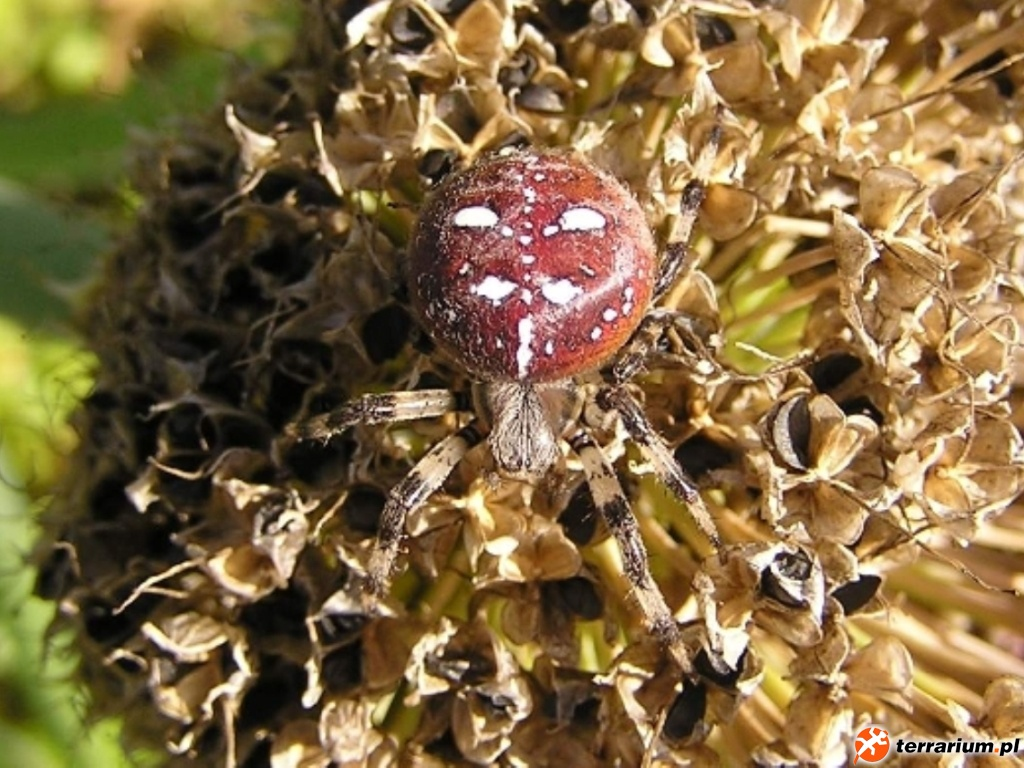spider: (266, 71, 803, 687)
